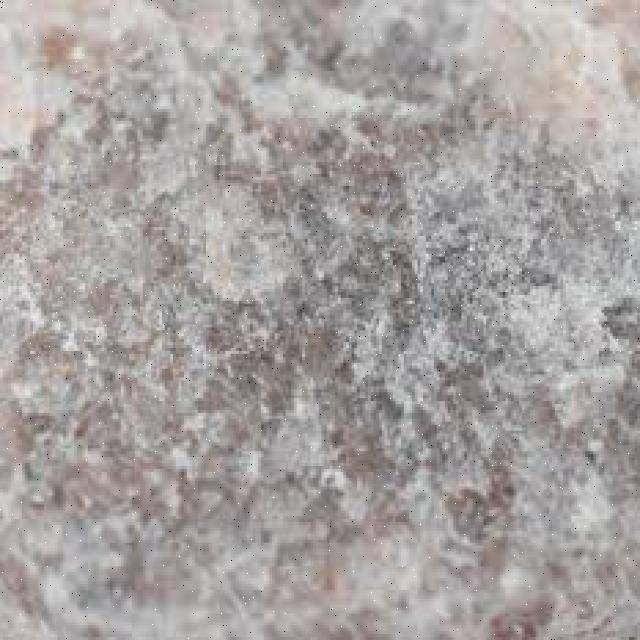Metamorphic: (8, 9, 637, 640)
